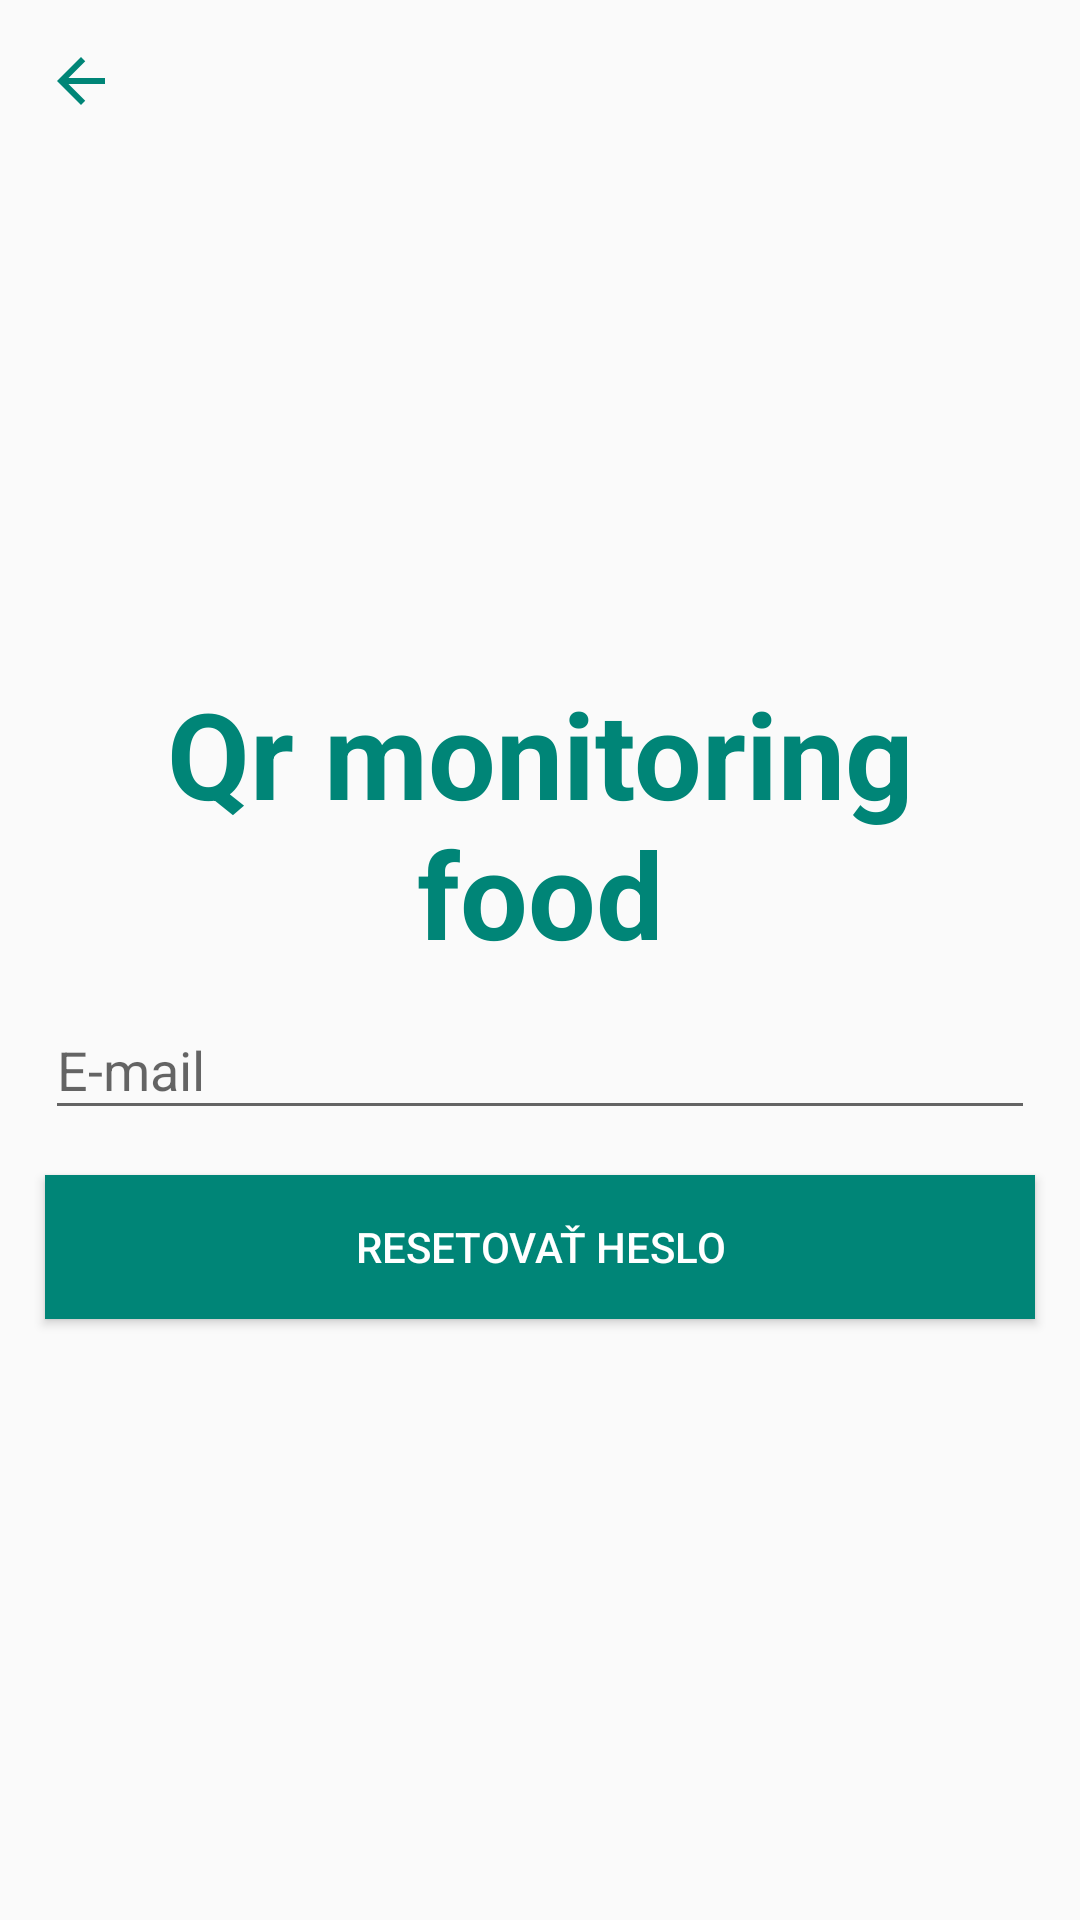

Locate icon controls on the screen. Image size 1080×1920, boxes as box=[x1, y1, x2, y2].
Späť: box=[57, 57, 105, 105]
